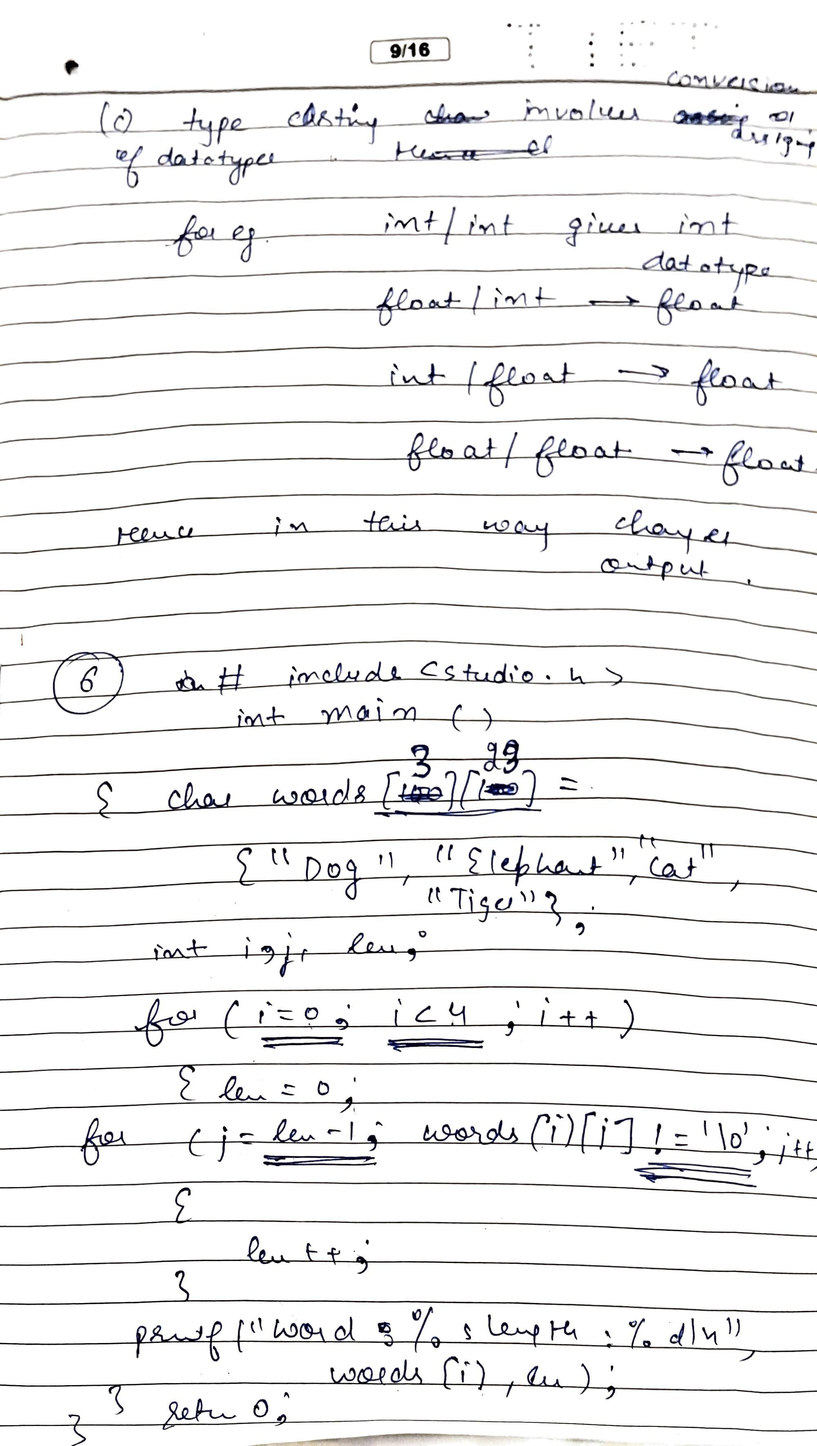cuttings: (395, 134, 555, 160), (672, 109, 750, 141), (423, 103, 490, 125), (172, 668, 208, 694), (400, 784, 442, 801), (486, 782, 518, 796)
